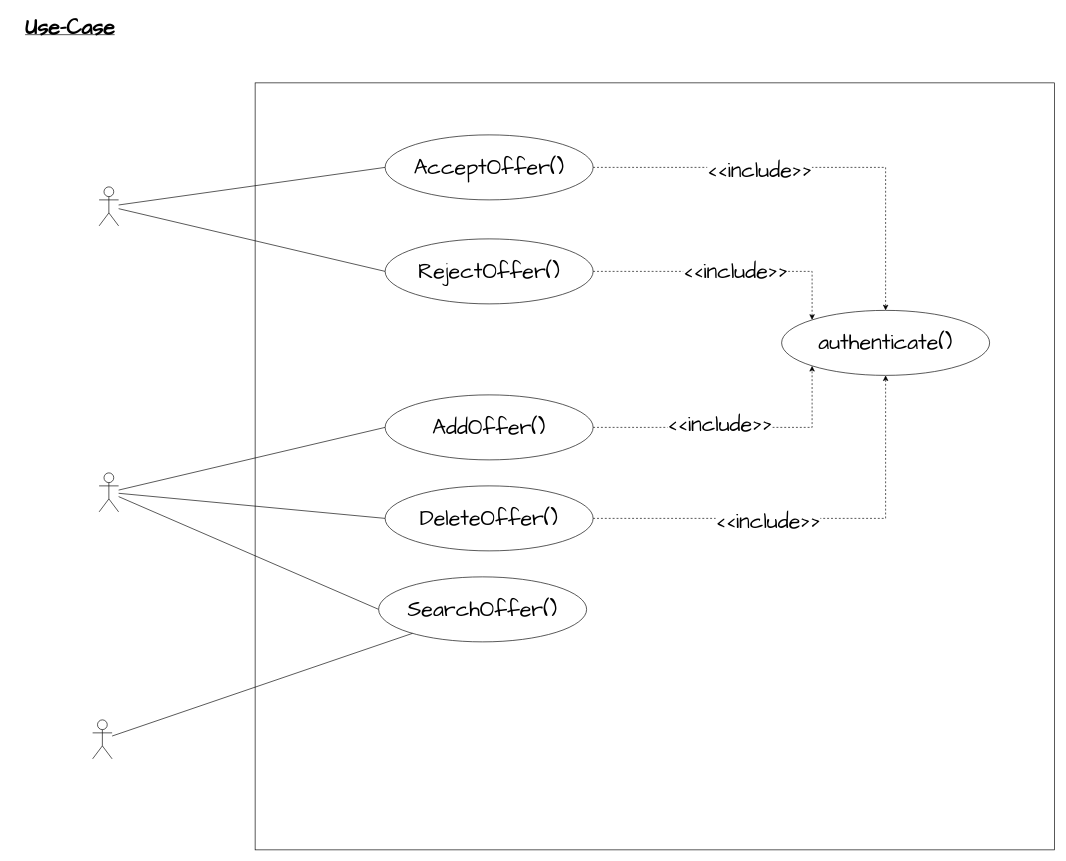
This 1066x861 diagram has some shape labels left out. The centre of each missing label's shape, as x and y in pixels:
Admin: (108,206)
Job-Seeker: (102,739)
Recruter: (108,492)
